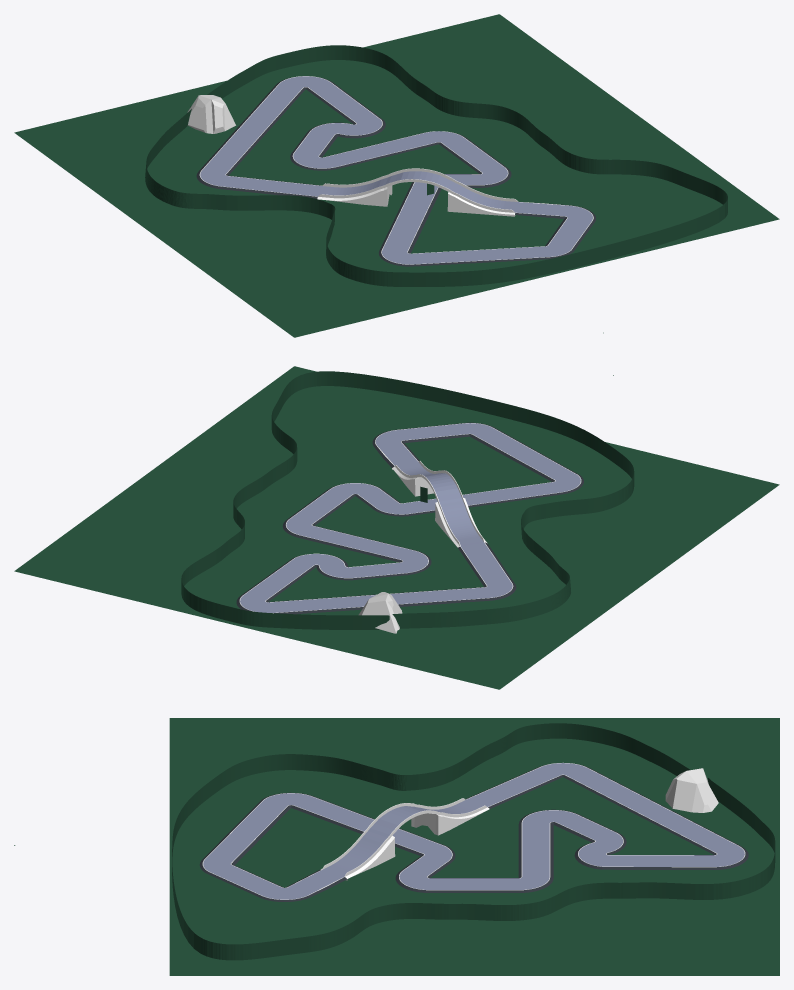
Rendered from SmokyRoad.glb.
The picture shows the model from 3 angles, top to bottom: view 1: azimuth 30°, elevation 25°; view 2: azimuth 150°, elevation 25°; view 3: azimuth 270°, elevation 25°; orthographic projection. The views are drawn at different scales.
Visible parts, largest first — view 1: Ground, SmokyRoad, Plane.004, The rock; view 2: Ground, SmokyRoad, Plane.004, The rock; view 3: Ground, SmokyRoad, Plane.004, The rock.
Boxes of the visible parts, box(x1,y1,x2,y2) form: Ground: box(14, 14, 779, 337); SmokyRoad: box(196, 76, 595, 266); Plane.004: box(145, 45, 727, 286); The rock: box(187, 95, 235, 133); Ground: box(14, 366, 779, 689); SmokyRoad: box(236, 422, 583, 614); Plane.004: box(181, 371, 634, 629); The rock: box(358, 592, 402, 633); Ground: box(14, 718, 779, 975); SmokyRoad: box(199, 762, 748, 901); Plane.004: box(172, 723, 775, 960); The rock: box(665, 768, 718, 812).
Size of the model in its own units: 1000 by 59.59 by 1255.
1 material, 1 textured.
